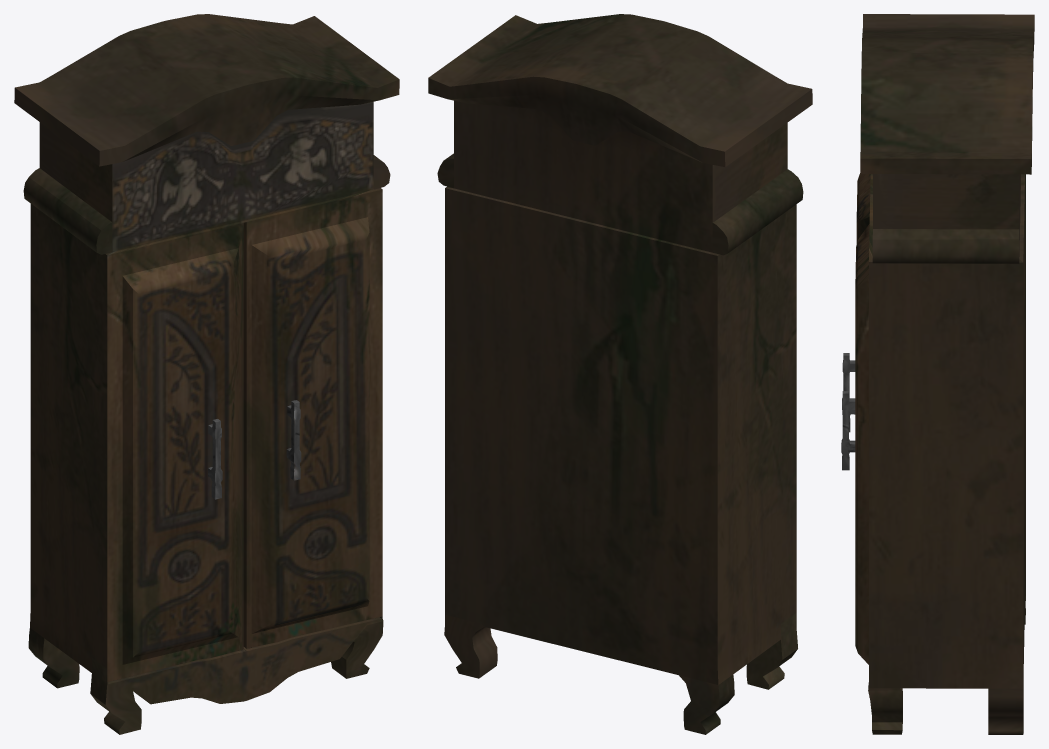
Rendered from wardrobe-2.glb.
3 renders of one model, left to right at view 1: azimuth 30°, elevation 25°; view 2: azimuth 150°, elevation 25°; view 3: azimuth 270°, elevation 25°, orthographic.
Parts seen in each view (by area): view 1: pCube6; view 2: pCube6; view 3: pCube6.
Boxes of the visible parts, x1,y1,x2,y2 form: pCube6: (14,14,399,734); pCube6: (428,14,812,734); pCube6: (841,14,1034,734).
Bounding box in the file's own units: 5.25 × 10.43 × 2.95.
Materials: 1 (1 with a texture image).
